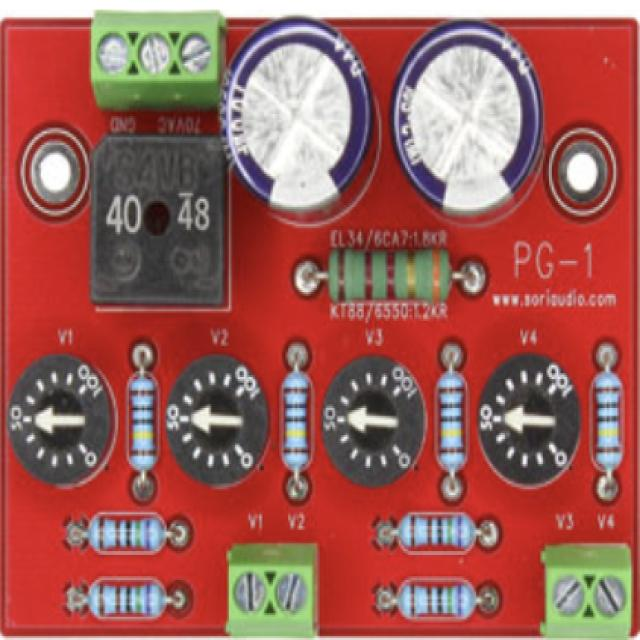Electrolytic capacitor: (220, 19, 374, 216), (392, 23, 544, 222)
resistor: (325, 242, 456, 314), (271, 366, 315, 478), (433, 367, 470, 487), (126, 360, 161, 480), (84, 571, 166, 620), (591, 362, 624, 475), (80, 516, 179, 552), (392, 516, 492, 548)
